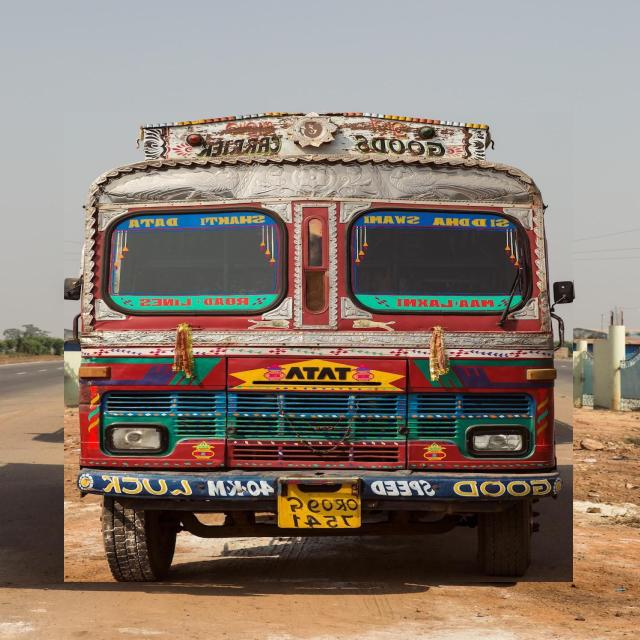truck: (65, 113, 573, 582)
